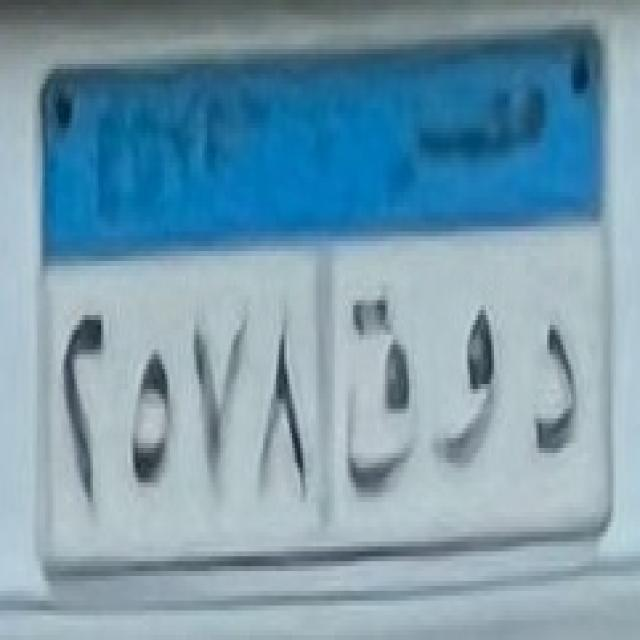2: (50, 307, 115, 522)
5: (122, 334, 184, 496)
7: (186, 300, 253, 506)
8: (252, 305, 318, 511)
Taa: (329, 286, 427, 506)
Wow: (431, 290, 507, 484)
daal: (521, 306, 590, 466)
